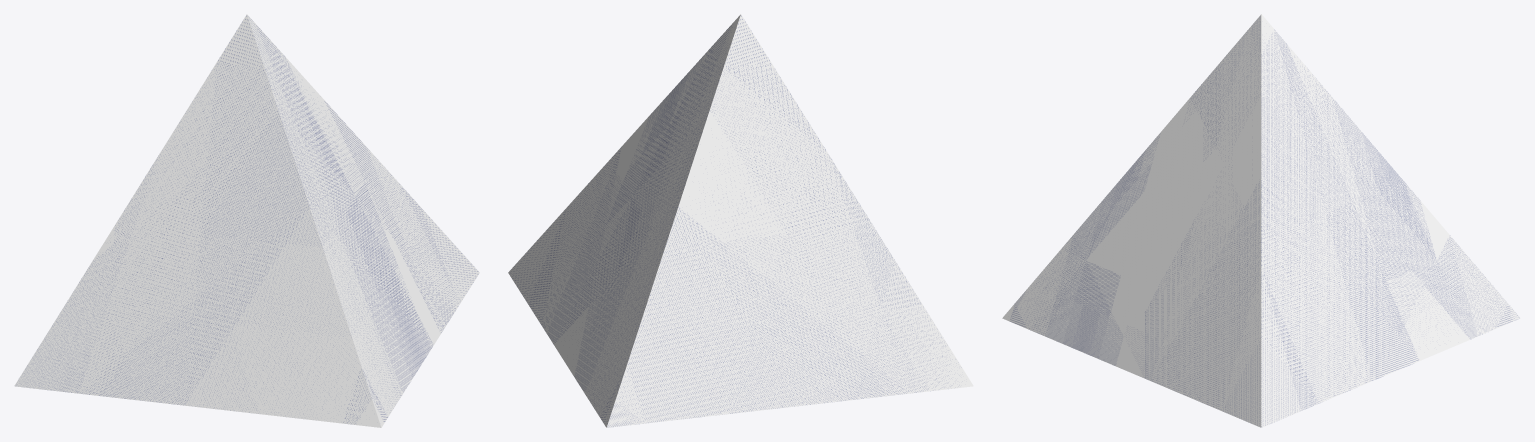
Rendered from pyramide.fbx.
The picture shows the model from 3 angles, left to right: view 1: azimuth 30°, elevation 25°; view 2: azimuth 150°, elevation 25°; view 3: azimuth 270°, elevation 25°; orthographic projection. The views are drawn at different scales.
Visible parts, largest first — view 1: Model; view 2: Model; view 3: Model.
Boxes of the visible parts, x1,y1,x2,y2 form: Model: [14, 14, 479, 427]; Model: [508, 14, 973, 427]; Model: [1002, 14, 1520, 427].
Bounding box in the file's own units: 2.88 × 1.86 × 2.88.
